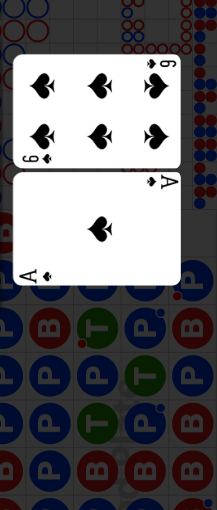6S: (144, 58, 177, 71)
AS: (18, 267, 55, 284)
